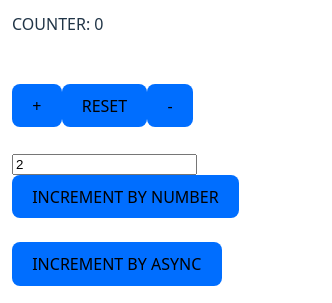
Test: Counter Component › decrements the counter on - button click
Click the button "-" at (170, 106), box top-left (147, 84), bottom-right (193, 127)
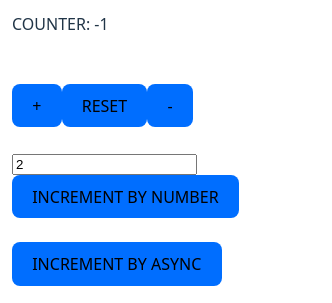
Expected: the text "COUNTER: -1" is shown, top-left (12, 13), bottom-right (109, 35)
